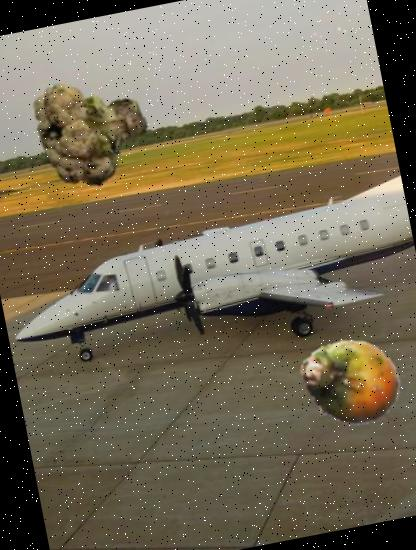Cactus: (297, 326, 408, 437)
Cauliflower: (26, 62, 160, 196)
